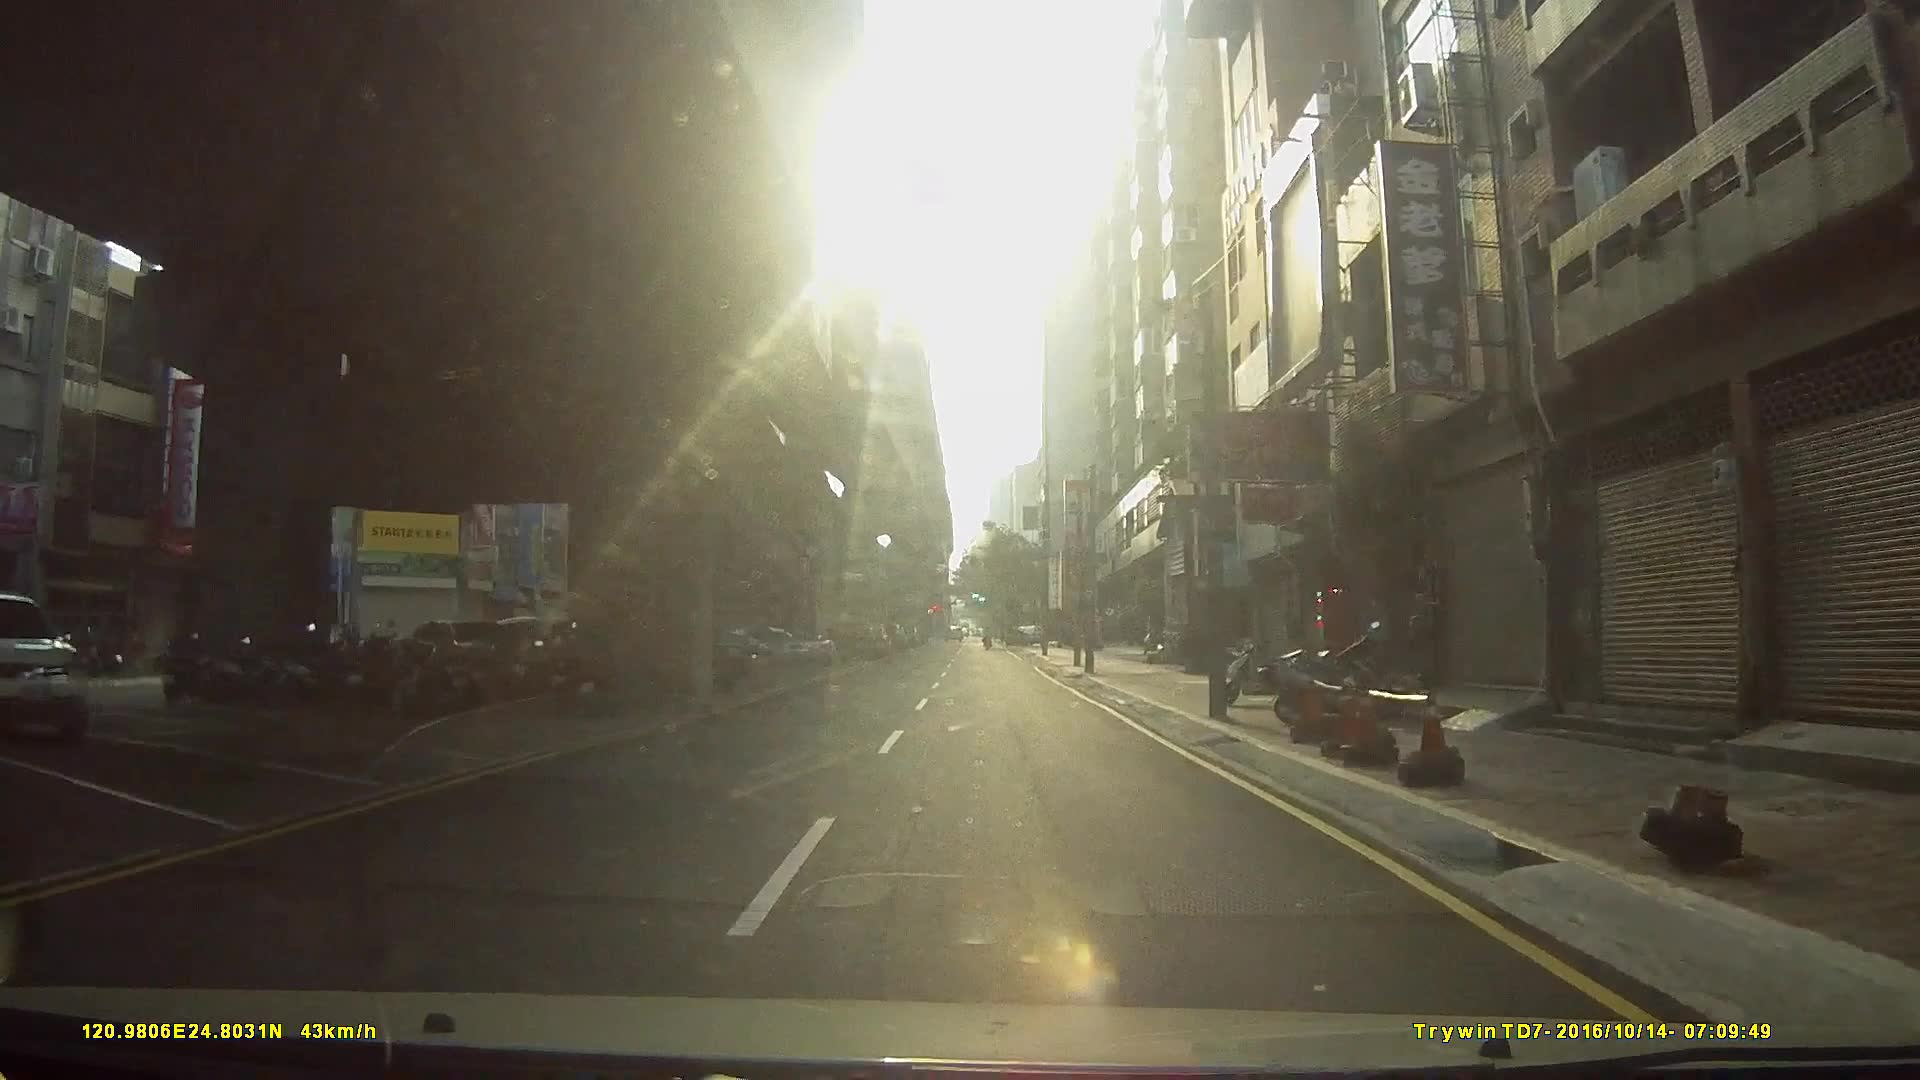vehicle: (0, 591, 88, 742)
